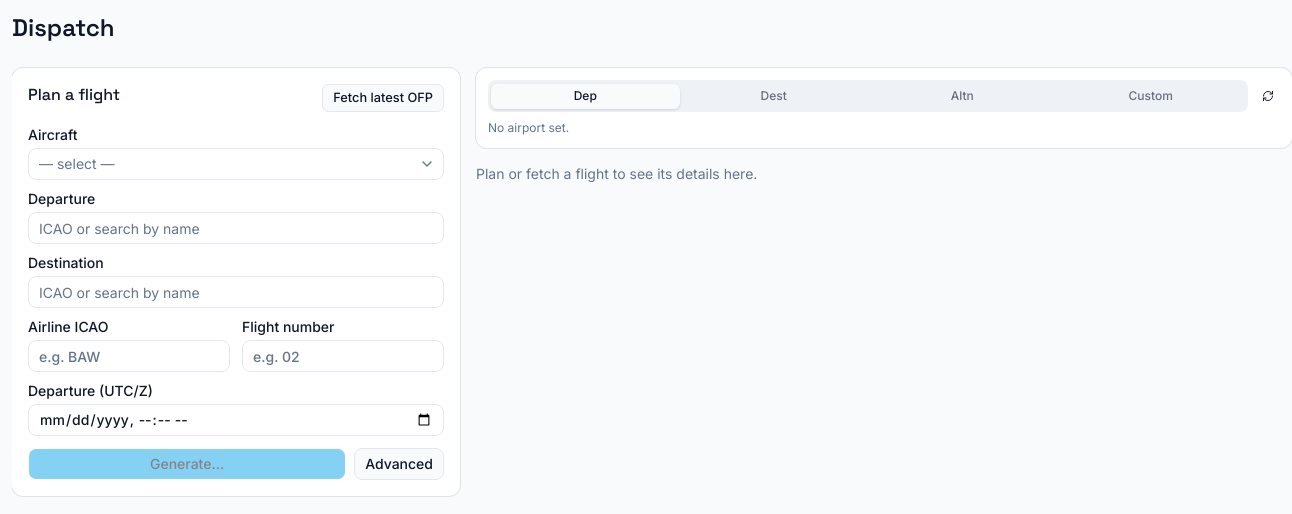
Scenario: DispatchView › loads aircraft (filtering retired ones), fleet stats and past flights on mount
Click the dropdown at (77, 164), box [28, 148, 444, 180]
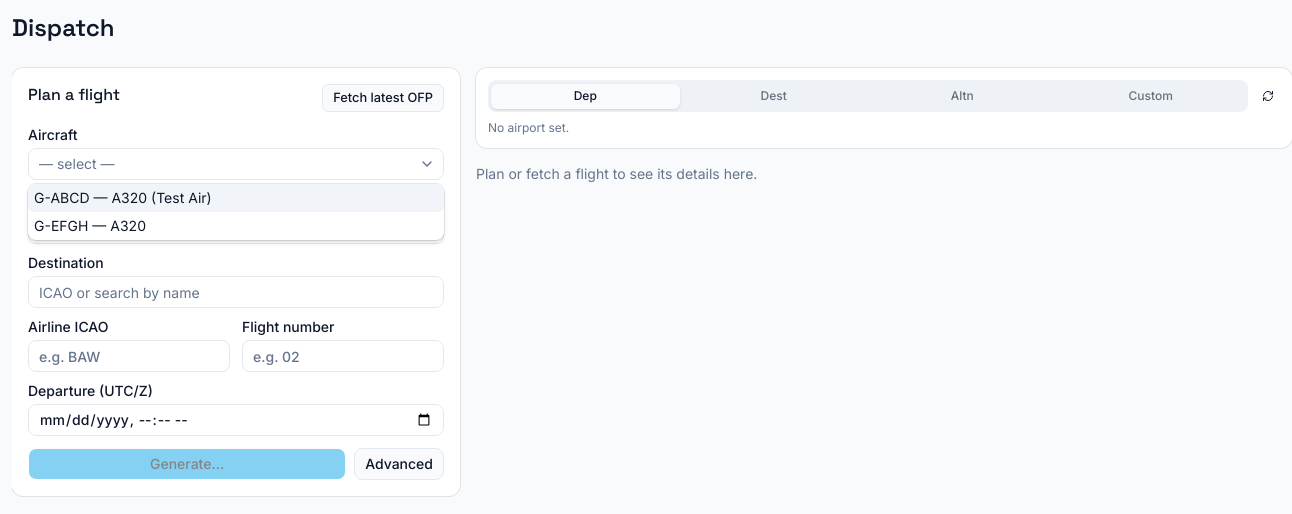
Result: the option "G-ABCD — A320 (Test Air)" is shown at [28, 184, 444, 212]
Result: the option "G-EFGH — A320" is shown at [34, 217, 146, 234]
